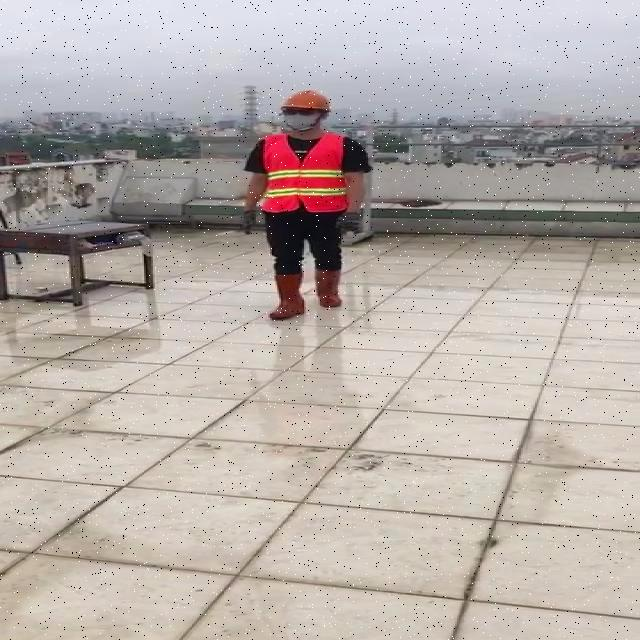Hard_hat: (277, 88, 338, 119)
Person: (237, 85, 380, 329)
Vest: (260, 128, 348, 215)
